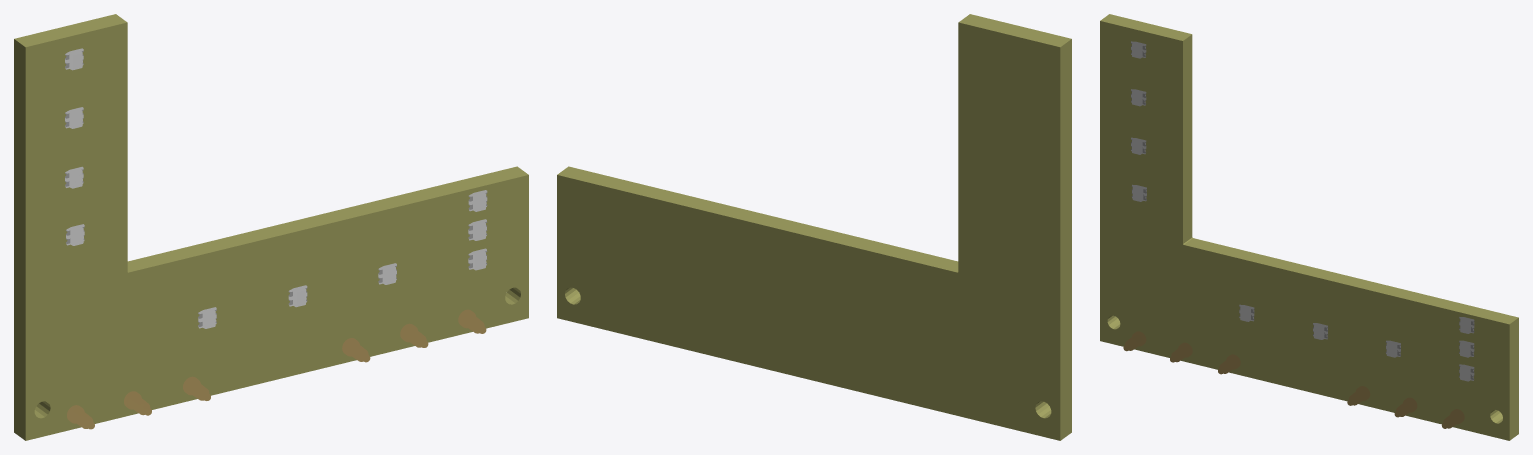
File: OBJ_PCB_TR590_MainButtonPanel.obj
3 renders of one model, left to right at view 1: azimuth 30°, elevation 25°; view 2: azimuth 150°, elevation 25°; view 3: azimuth 330°, elevation 25°, orthographic. The views are drawn at different scales.
Size of the model in its own units: 251 by 188 by 25.83.
